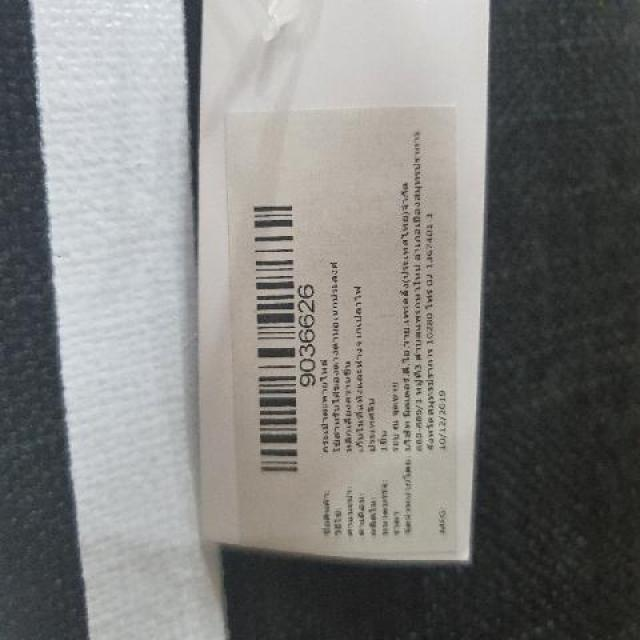Barcode: (245, 189, 318, 487)
